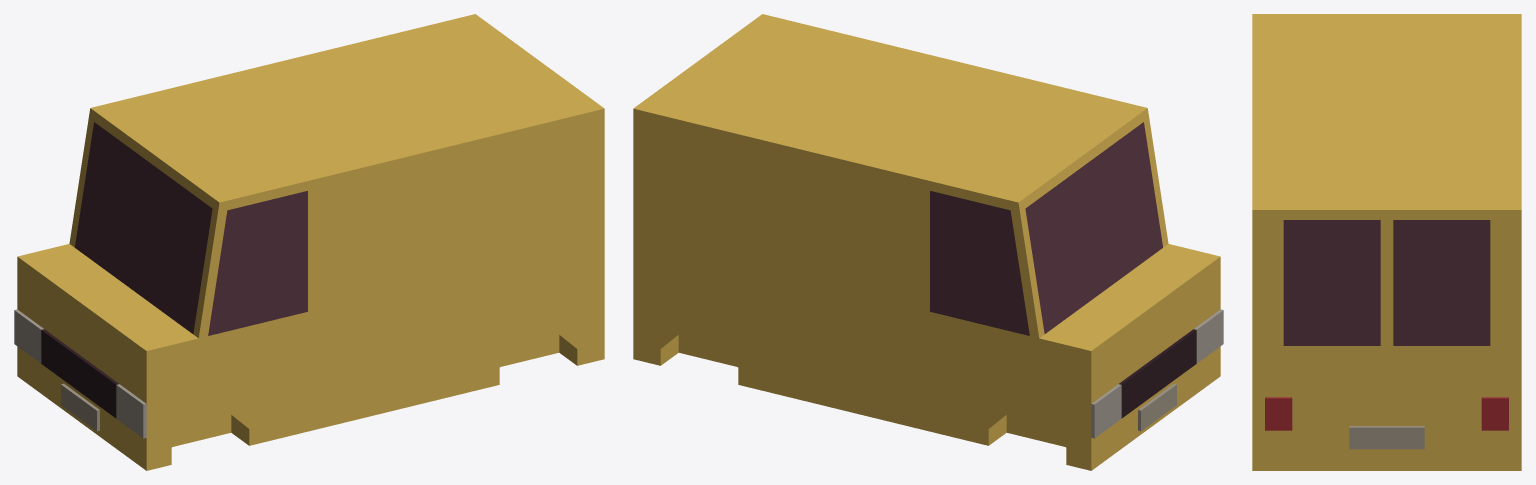
File: Van_Yellow.fbx
3 views of the same model, side by side, from view 1: azimuth 30°, elevation 25°; view 2: azimuth 150°, elevation 25°; view 3: azimuth 270°, elevation 25° (orthographic). The views are drawn at different scales.
Parts seen in each view (by area): view 1: Van_Yellow, Van_Lights; view 2: Van_Yellow, Van_Lights; view 3: Van_Yellow, Van_Lights.
Boxes of the visible parts, x1,y1,x2,y2 form: Van_Yellow: (17, 14, 604, 470); Van_Lights: (14, 309, 146, 438); Van_Yellow: (633, 14, 1220, 470); Van_Lights: (1091, 309, 1223, 438); Van_Yellow: (1252, 14, 1521, 470); Van_Lights: (1265, 397, 1508, 430).
Bounding box in the file's own units: 4.46 × 2.3 × 2.15.
